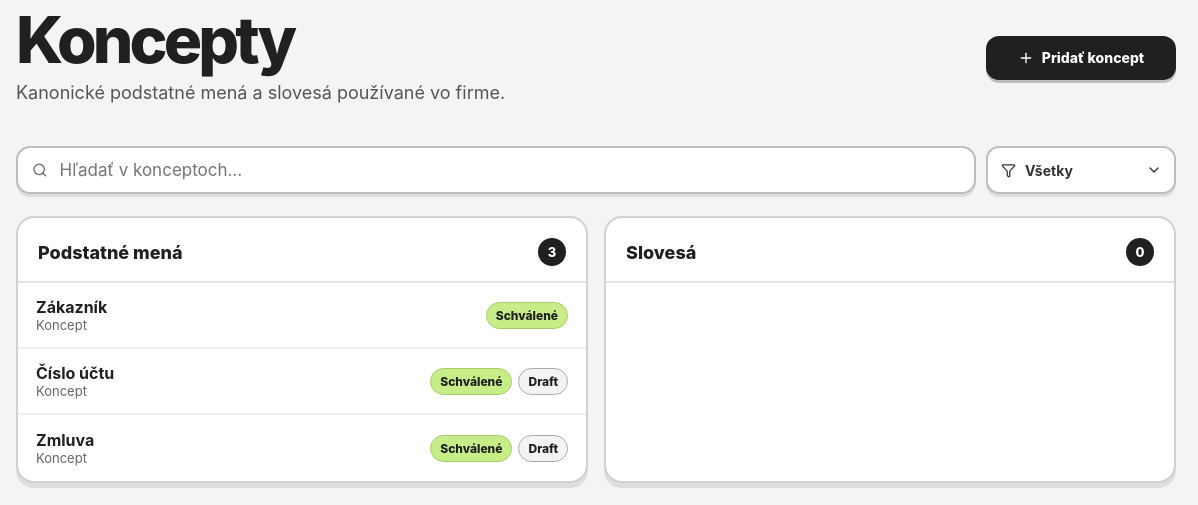
Scenario: LibraryPage › filters through an accessible status menu with styled options
This screenshot has width=1198, height=505.
Click the button with aria-label "Filtrovať podľa stavu: Všetky" at (1081, 170), box top-left (986, 146), bottom-right (1176, 194)
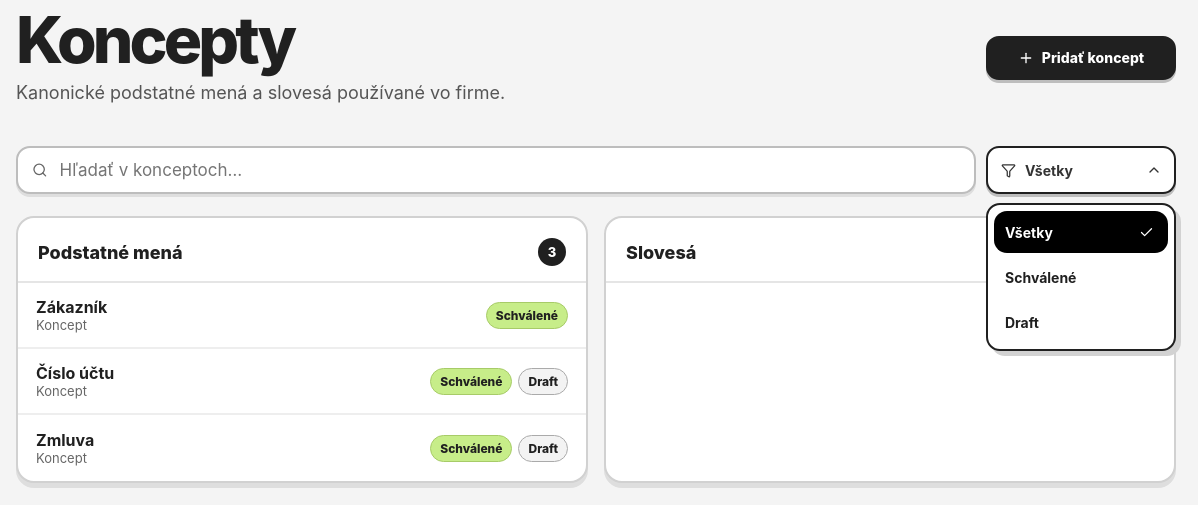
Check: the list named "Filtrovať podľa stavu" is shown, box top-left (986, 203), bottom-right (1176, 351)
Click the option "Draft" at (1081, 322), box top-left (994, 301), bottom-right (1168, 343)
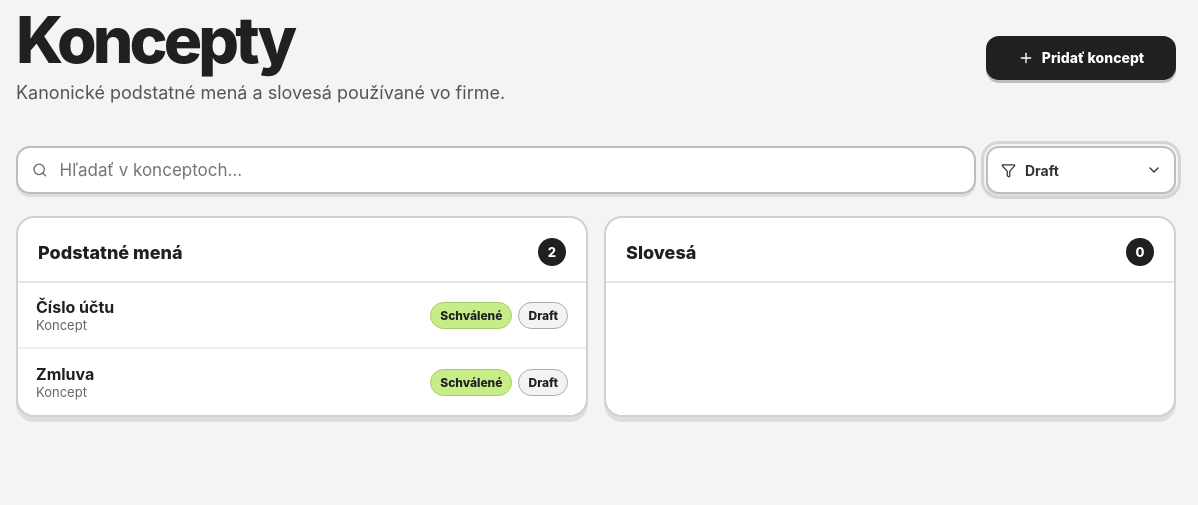
Check: the text "Číslo účtu" is shown, box top-left (36, 297), bottom-right (114, 317)
Check: the button with aria-label "Filtrovať podľa stavu: Draft" is shown, box top-left (986, 146), bottom-right (1176, 194)
Check: the link "Zákazník" is gone
